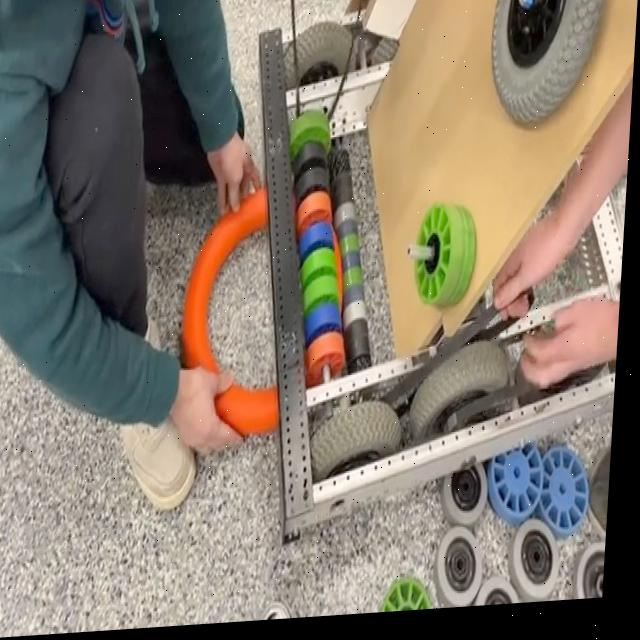note: (179, 180, 362, 450)
